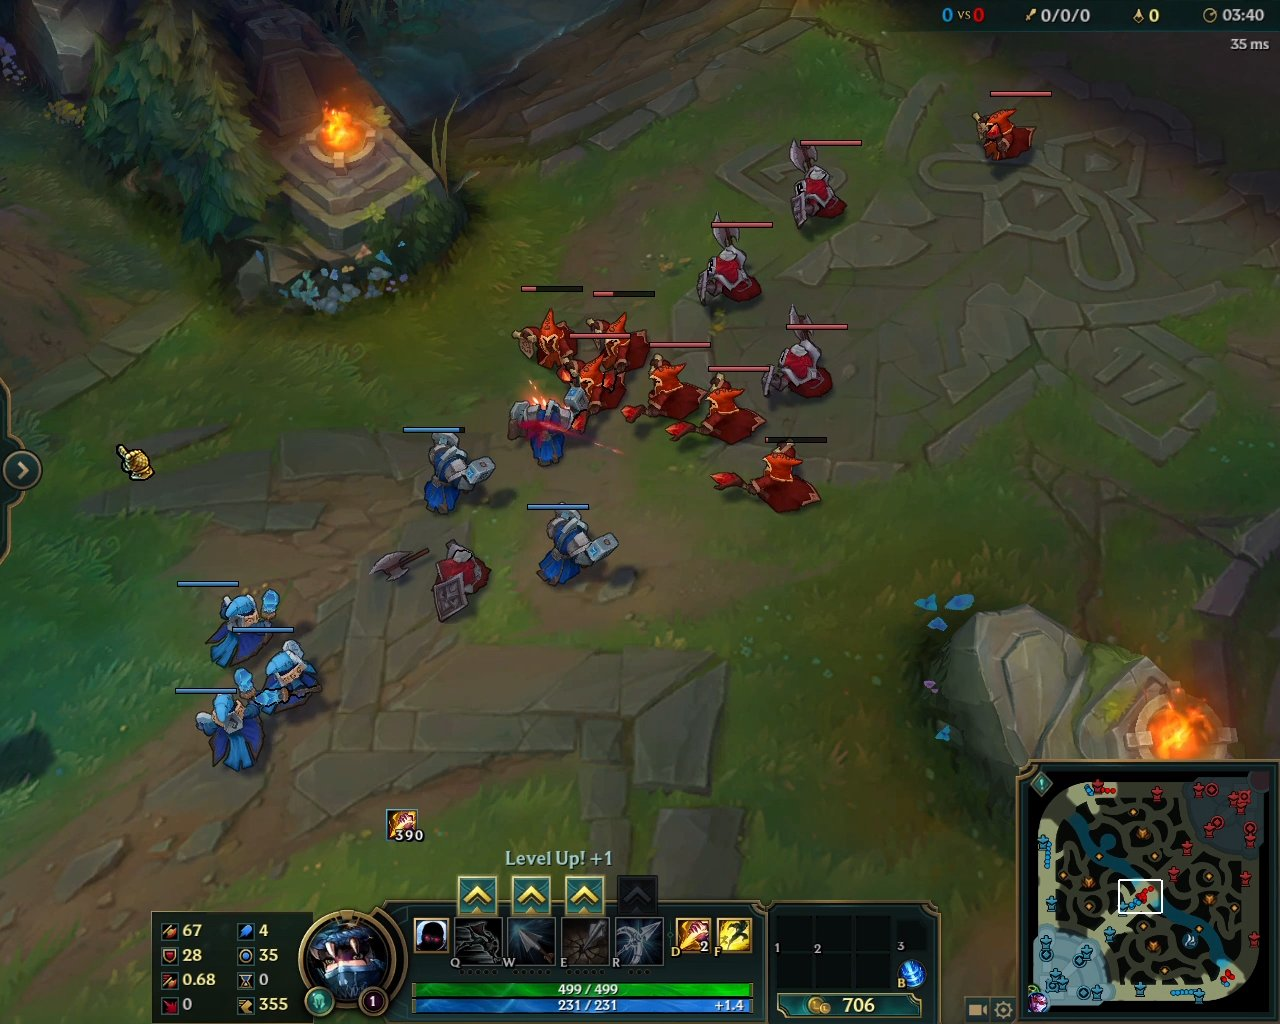EnemyMinion: (757, 304, 850, 403), (709, 438, 827, 515), (670, 366, 768, 448), (619, 342, 713, 427), (775, 136, 864, 226), (688, 217, 770, 311), (553, 332, 633, 418), (511, 285, 583, 376), (968, 90, 1052, 163)
